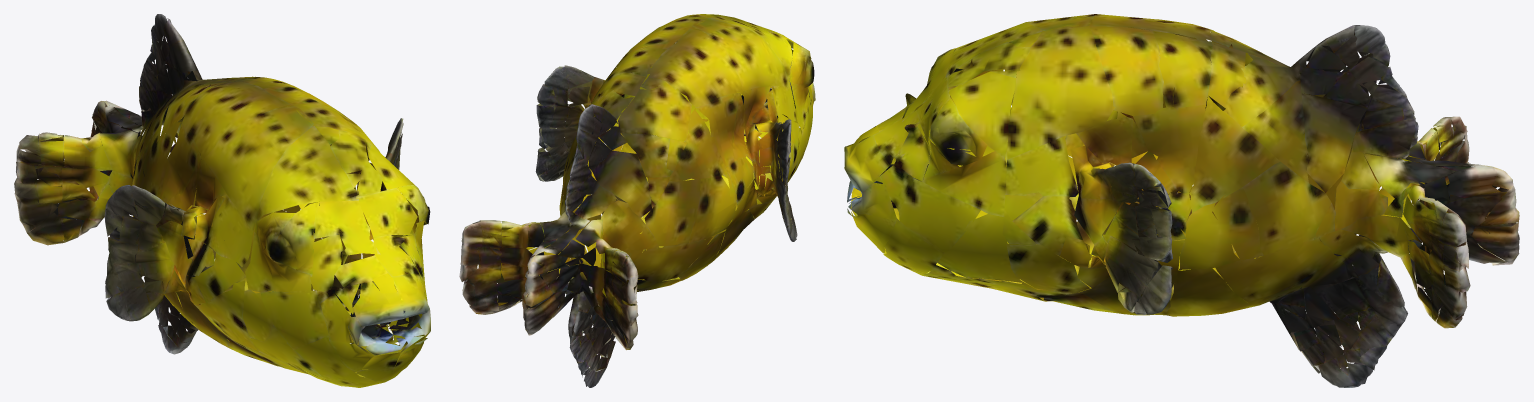
File: pufferfish.glb
3 views of the same model, side by side, from view 1: azimuth 30°, elevation 25°; view 2: azimuth 150°, elevation 25°; view 3: azimuth 270°, elevation 25° (orthographic). The views are drawn at different scales.
Visible parts, largest first — view 1: Object_6, Object_5, Object_4, Object_7; view 2: Object_5, Object_6, Object_4, Object_7; view 3: Object_5, Object_6, Object_7, Object_4.
Boxes of the visible parts, left/top/right/bottom form: Object_6: left=58, top=24, right=429, bottom=381; Object_5: left=14, top=30, right=430, bottom=387; Object_4: left=16, top=14, right=430, bottom=355; Object_7: left=16, top=18, right=401, bottom=342; Object_5: left=459, top=14, right=815, bottom=377; Object_6: left=497, top=14, right=814, bottom=375; Object_4: left=462, top=33, right=814, bottom=387; Object_7: left=460, top=51, right=792, bottom=367; Object_5: left=844, top=25, right=1519, bottom=373; Object_6: left=847, top=14, right=1480, bottom=362; Object_7: left=1144, top=19, right=1519, bottom=375; Object_4: left=847, top=25, right=1519, bottom=387.
Bounding box in the file's own units: 1.06 × 1.13 × 1.9.
1 material, 1 textured.
